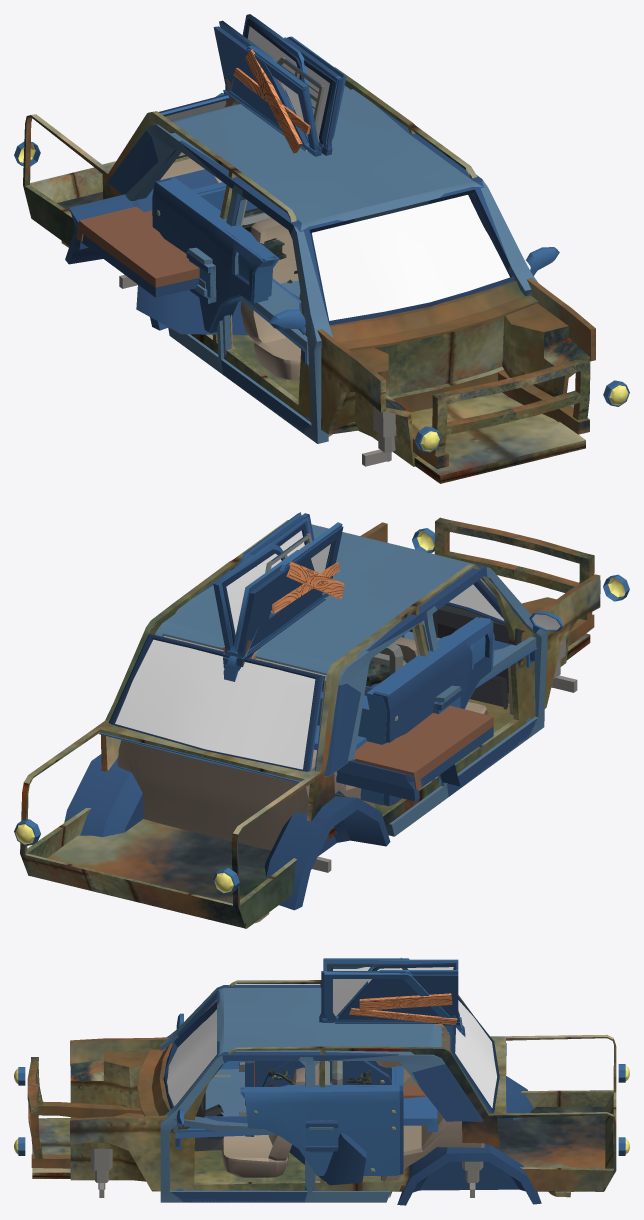
File: car_s_atlasom_center_pivot.fbx
3 renders of one model, top to bottom at view 1: azimuth 30°, elevation 25°; view 2: azimuth 150°, elevation 25°; view 3: azimuth 270°, elevation 25°, orthographic. The views are drawn at different scales.
Parts seen in each view (by area): view 1: frame, krysha, nesnimaemoe, bagazh (×2), krisha, t3_zad, salon2, bokovi_zad (×2), t3_bamper, front_door_t3_4, back_door_t2, f_right_door (+5 smaller); view 2: frame, nesnimaemoe, krysha, salon2, bagazh (×2), t3_zad, krisha, bokovi_zad (×2), front_door_t3_4, f_right_door, back_door_t2, b_left_door (+6 smaller); view 3: frame, krysha, nesnimaemoe, bokovi_zad (×2), salon2, krisha, front_door_t3_3, bagazh_pered, t3_bamper, front_door_t1, back_door_t1, pokrishka_l (+13 smaller).
Part boxes in pixels (left/top/right/bottom): frame: left=23, top=67, right=595, bottom=483; krysha: left=107, top=86, right=537, bottom=443; nesnimaemoe: left=14, top=93, right=629, bottom=466; bagazh (×2): left=69, top=169, right=218, bottom=297; krisha: left=107, top=103, right=510, bottom=432; t3_zad: left=152, top=178, right=276, bottom=331; salon2: left=160, top=158, right=332, bottom=436; bokovi_zad (×2): left=158, top=178, right=279, bottom=333; t3_bamper: left=136, top=200, right=270, bottom=335; front_door_t3_4: left=213, top=26, right=308, bottom=151; back_door_t2: left=233, top=47, right=320, bottom=153; f_right_door: left=242, top=14, right=313, bottom=114; frame: left=20, top=517, right=600, bottom=928; nesnimaemoe: left=14, top=528, right=629, bottom=910; krysha: left=152, top=524, right=547, bottom=836; salon2: left=117, top=578, right=524, bottom=850; bagazh (×2): left=314, top=705, right=493, bottom=801; t3_zad: left=174, top=617, right=493, bottom=806; krisha: left=105, top=562, right=536, bottom=796; bokovi_zad (×2): left=176, top=617, right=494, bottom=805; front_door_t3_4: left=236, top=555, right=325, bottom=670; f_right_door: left=217, top=543, right=283, bottom=670; back_door_t2: left=223, top=522, right=344, bottom=674; b_left_door: left=226, top=523, right=342, bottom=681; frame: left=27, top=980, right=616, bottom=1197; krysha: left=160, top=986, right=482, bottom=1202; nesnimaemoe: left=14, top=996, right=629, bottom=1205; bokovi_zad (×2): left=240, top=1066, right=403, bottom=1175; salon2: left=164, top=999, right=484, bottom=1197; krisha: left=171, top=985, right=483, bottom=1202; front_door_t3_3: left=335, top=974, right=459, bottom=1025; bagazh_pered: left=173, top=1069, right=272, bottom=1133; t3_bamper: left=289, top=1061, right=366, bottom=1185; front_door_t1: left=349, top=993, right=460, bottom=1040; back_door_t1: left=324, top=972, right=461, bottom=1032; pokrishka_l: left=262, top=1061, right=391, bottom=1086.
Bounding box in the file's own units: 168 × 129 × 355.
1 material, 1 textured.
